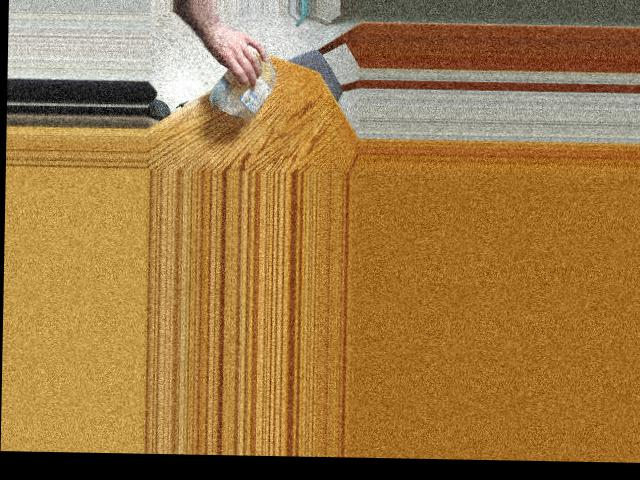cheese: (213, 39, 280, 119)
